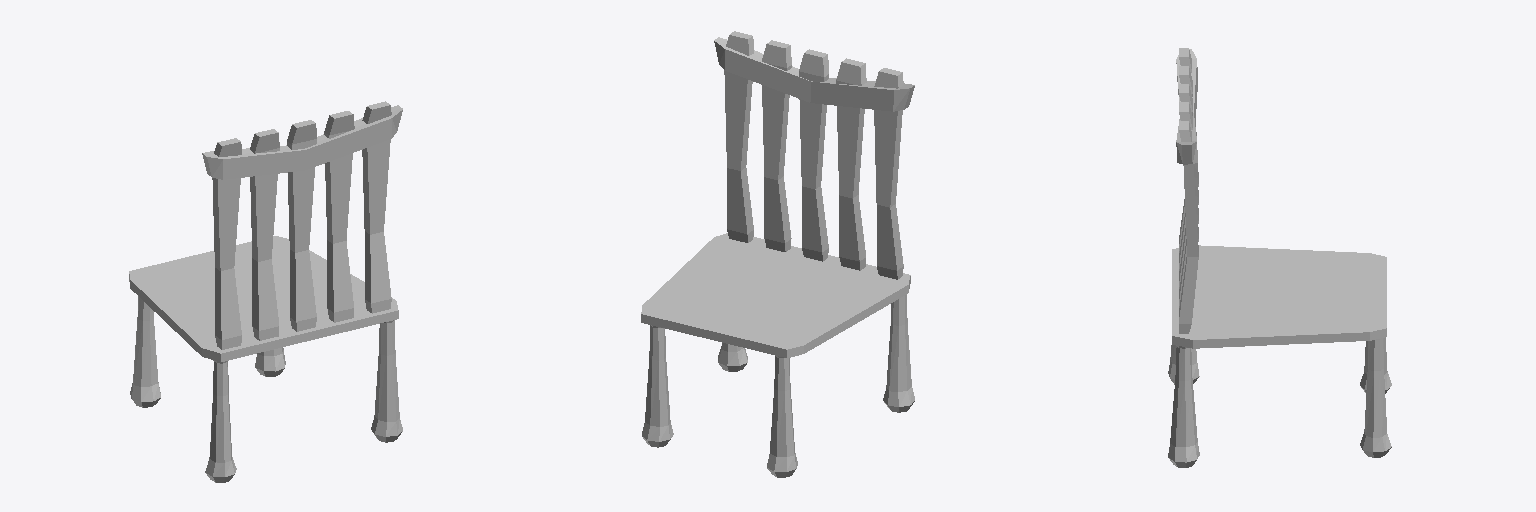
File: chairexport2.obj
The picture shows the model from 3 angles: view 1: azimuth 30°, elevation 25°; view 2: azimuth 150°, elevation 25°; view 3: azimuth 270°, elevation 25°; orthographic projection.
Visible parts, largest first — view 1: buttpartShape; view 2: buttpartShape; view 3: buttpartShape.
Boxes of the visible parts, box(x1,y1,x2,y2) form: buttpartShape: box(129, 101, 402, 482); buttpartShape: box(641, 31, 914, 477); buttpartShape: box(1168, 48, 1391, 467).
Bounding box in the file's own units: 4.73 × 7.7 × 4.68.